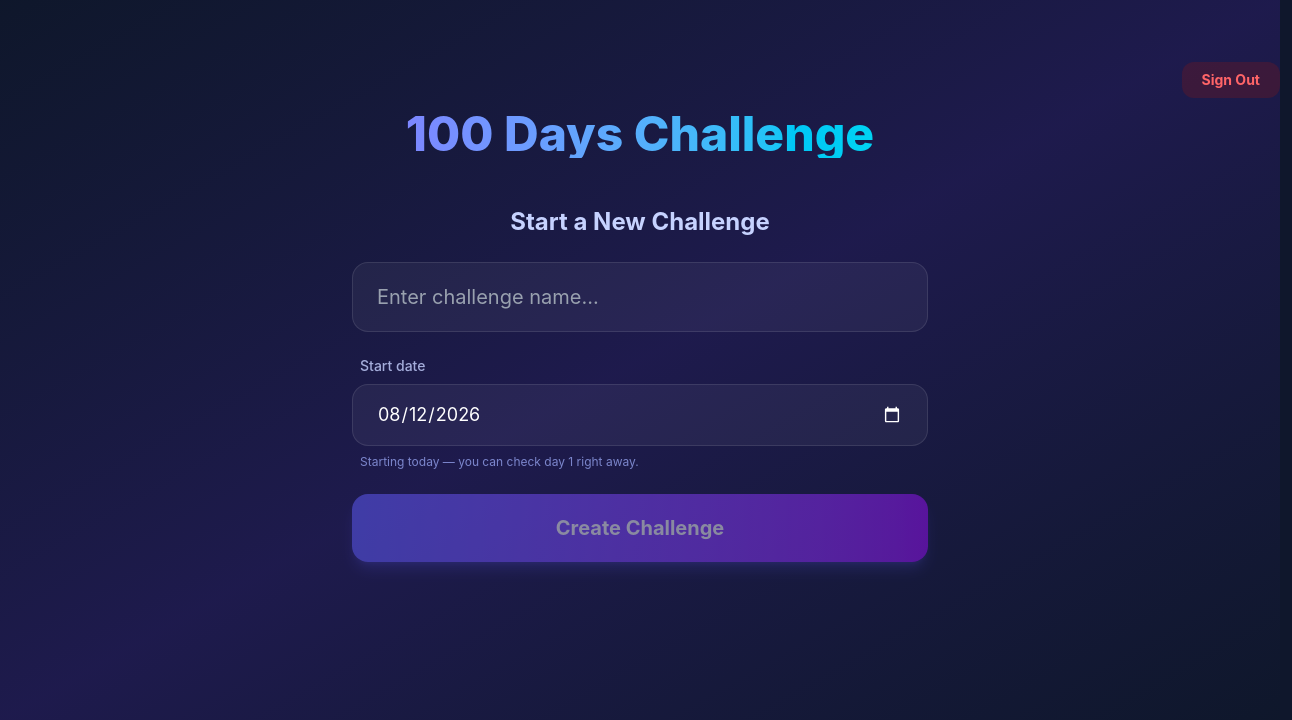
Creating a challenge › keeps Create disabled until a name is entered
The width and height of the screenshot is (1292, 720).
Expected: the button "Create Challenge" is disabled, [352, 494, 928, 562]
Type "Morning run" into the field with placeholder "Enter challenge name...".
click(640, 297); type("Morning run")  # box [352, 262, 928, 332]
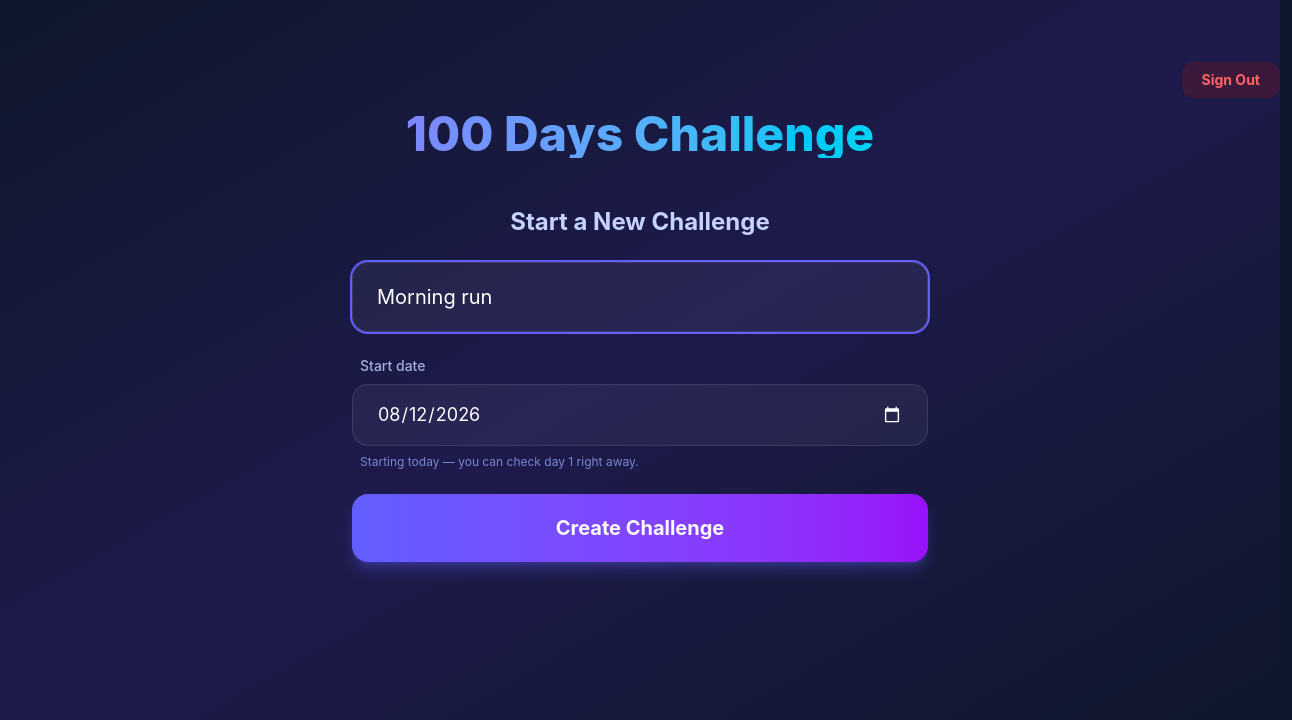
Expected: the button "Create Challenge" is enabled, [352, 494, 928, 562]
